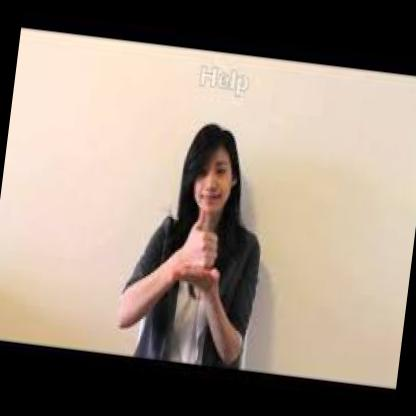help: (166, 201, 233, 312)
